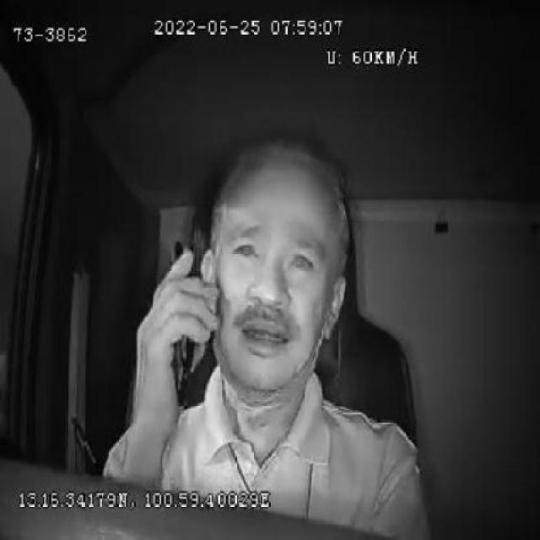phone: (170, 237, 197, 408)
